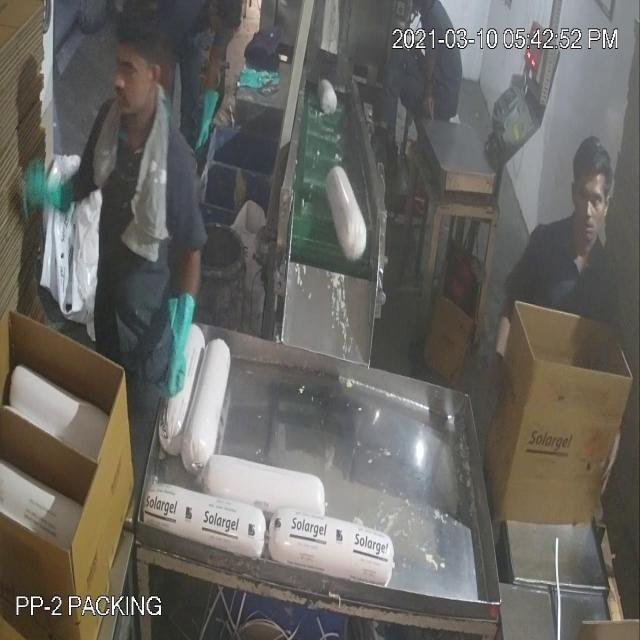Gloves: (35, 150, 500, 357)
